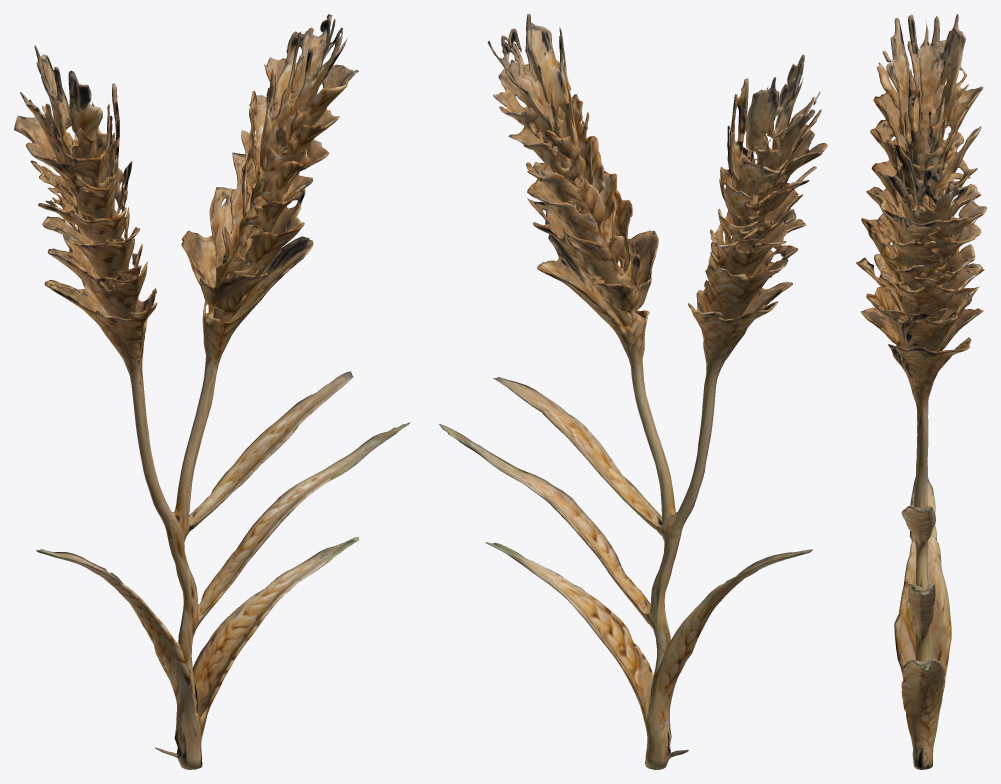
Rendered from wheat.glb.
3 renders of one model, left to right at view 1: azimuth 30°, elevation 25°; view 2: azimuth 150°, elevation 25°; view 3: azimuth 270°, elevation 25°, orthographic. The views are drawn at different scales.
Bounding box in the file's own units: 1.08 × 2 × 0.3433.
1 material, 1 textured.
